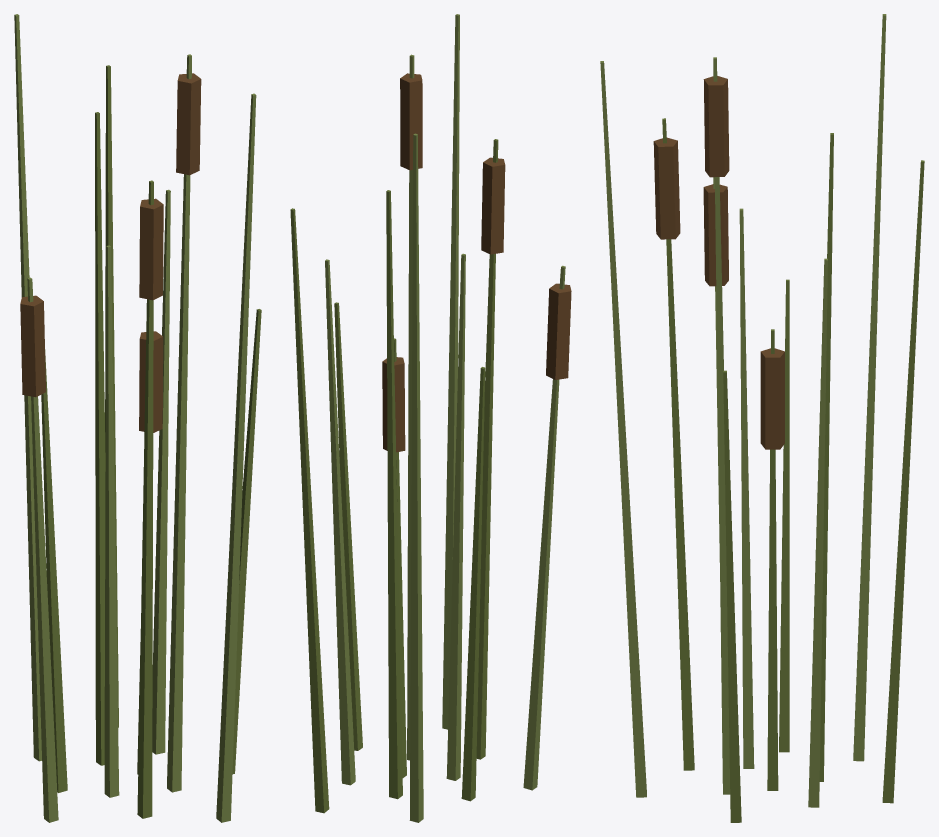
Rendered from reeds.glb.
3 views of the same model, side by side, from view 1: azimuth 30°, elevation 25°; view 2: azimuth 150°, elevation 25°; view 3: azimuth 270°, elevation 25° (orthographic). The views are drawn at different scales.
Parts seen in each view (by area): view 1: reeds; view 2: reeds; view 3: reeds.
Part boxes in pixels (bbox=[...]): reeds: bbox=[14, 14, 261, 822]; reeds: bbox=[290, 14, 571, 822]; reeds: bbox=[600, 14, 924, 822].
Size of the model in its own units: 0.5571 by 1.6 by 0.6363.
